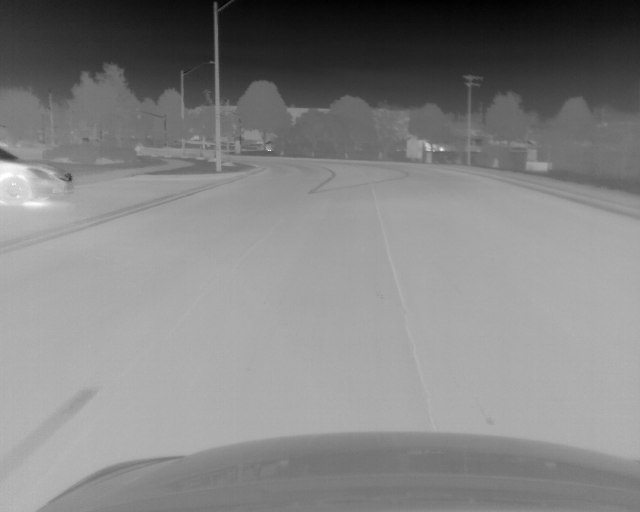car: (1, 141, 75, 205)
